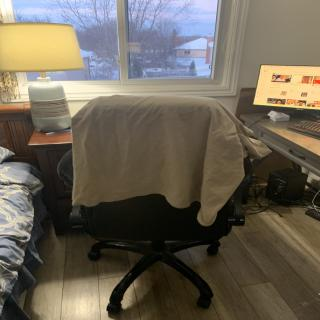Yellow T-Shirt: (72, 97, 252, 206)
